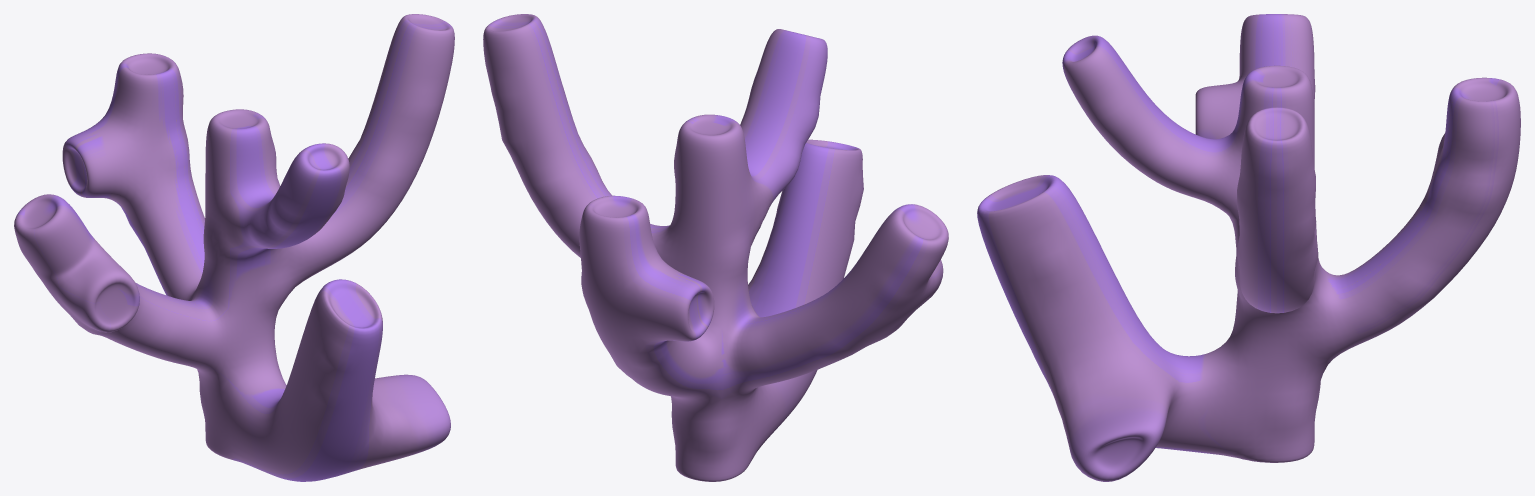
The model's file is coral.glb.
The picture shows the model from 3 angles, left to right: view 1: azimuth 30°, elevation 25°; view 2: azimuth 150°, elevation 25°; view 3: azimuth 270°, elevation 25°; orthographic projection. The views are drawn at different scales.
Visible parts, largest first — view 1: Cube; view 2: Cube; view 3: Cube.
Boxes of the visible parts, x1=… form: Cube: x1=14, y1=14, x2=454, y2=481; Cube: x1=483, y1=14, x2=948, y2=481; Cube: x1=977, y1=14, x2=1520, y2=481.
Bounding box in the file's own units: 13.93 × 11.81 × 13.3.
1 material, 1 textured.
